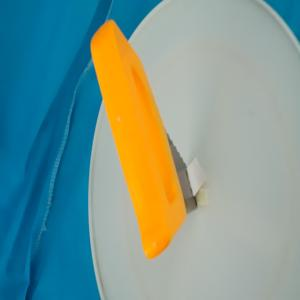serrote: (90, 19, 199, 260)
